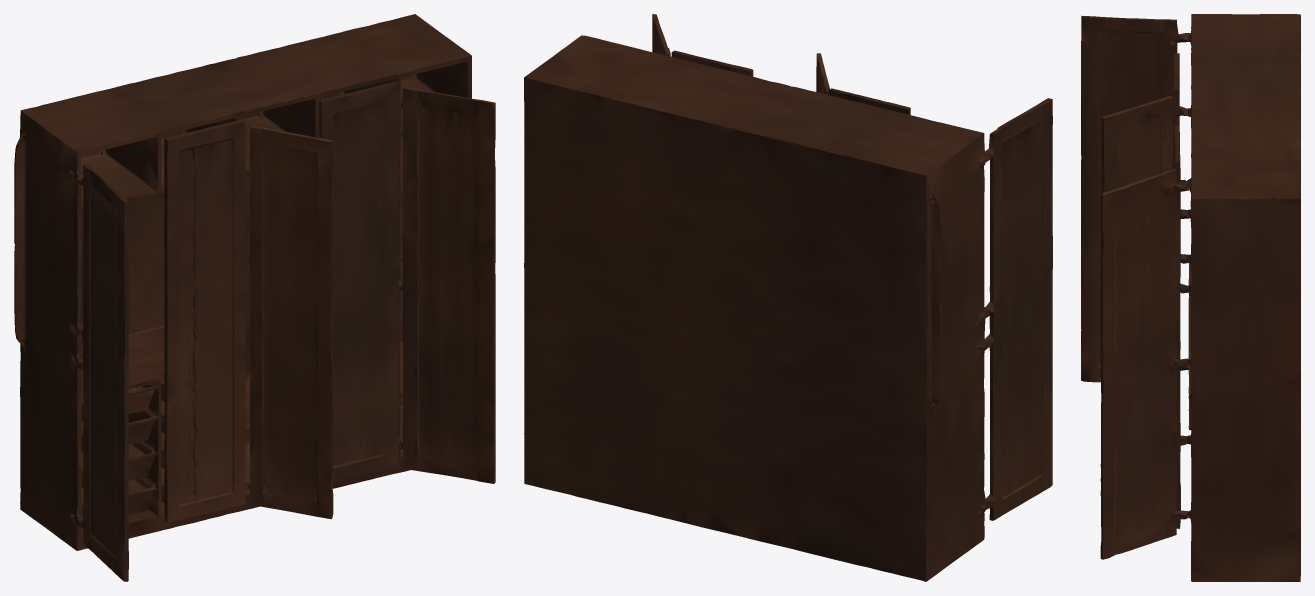
File: dolap.fbx
3 views of the same model, side by side, from view 1: azimuth 30°, elevation 25°; view 2: azimuth 150°, elevation 25°; view 3: azimuth 270°, elevation 25° (orthographic). The views are drawn at different scales.
Visible parts, largest first — view 1: Mesh1.0; view 2: Mesh1.0; view 3: Mesh1.0.
Boxes of the visible parts, x1,y1,x2,y2 form: Mesh1.0: (14, 14, 495, 581); Mesh1.0: (524, 14, 1052, 581); Mesh1.0: (1081, 14, 1300, 581).
Bounding box in the file's own units: 449 × 423 × 220.
1 material, 1 textured.
